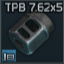SIG Sauer Two Port Brake 7.62x51 muzzle brake: (0, 0, 64, 64)
